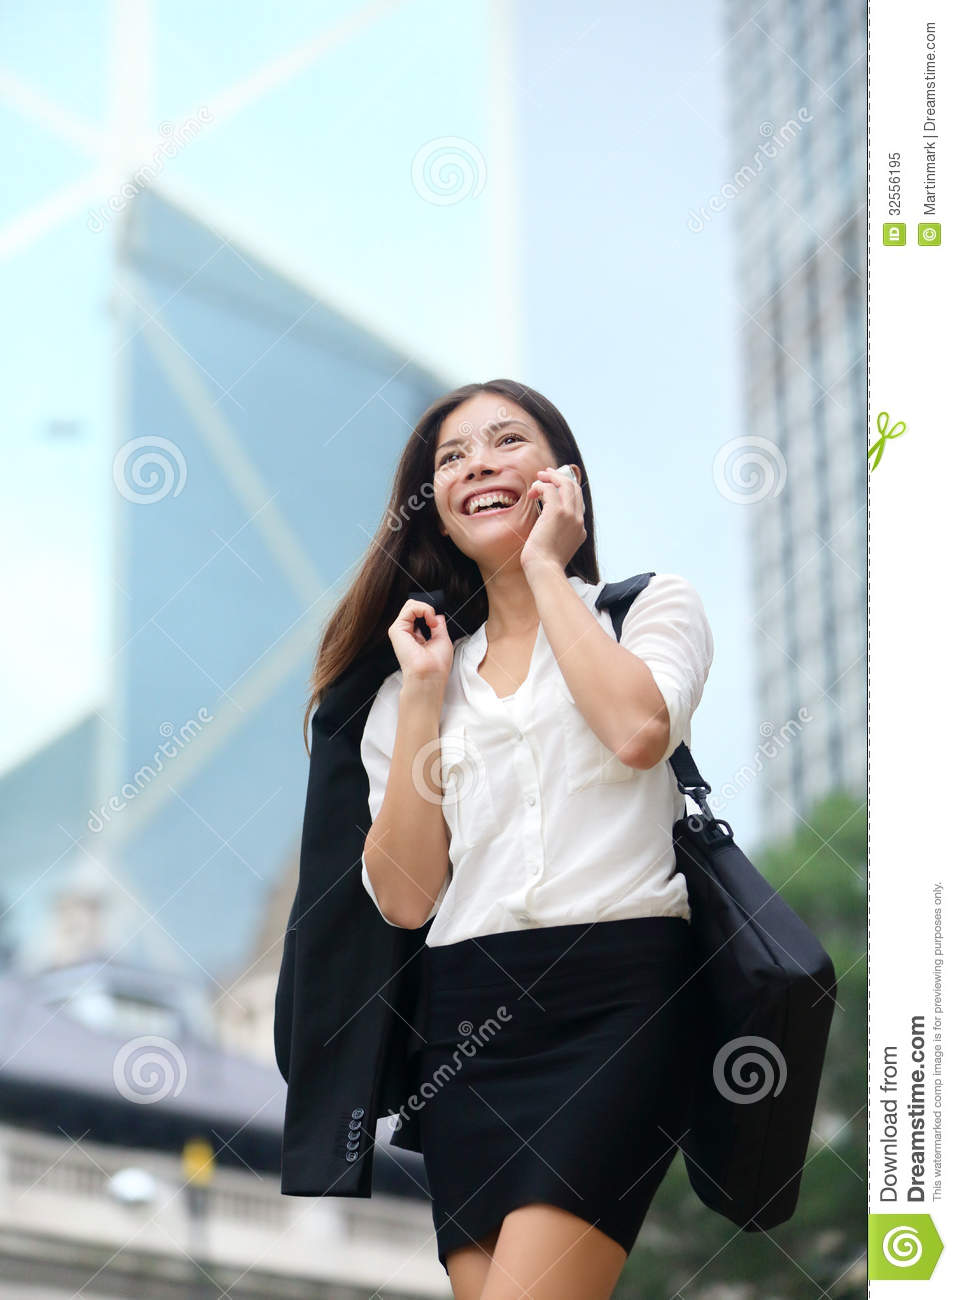talk: (438, 422, 587, 589)
